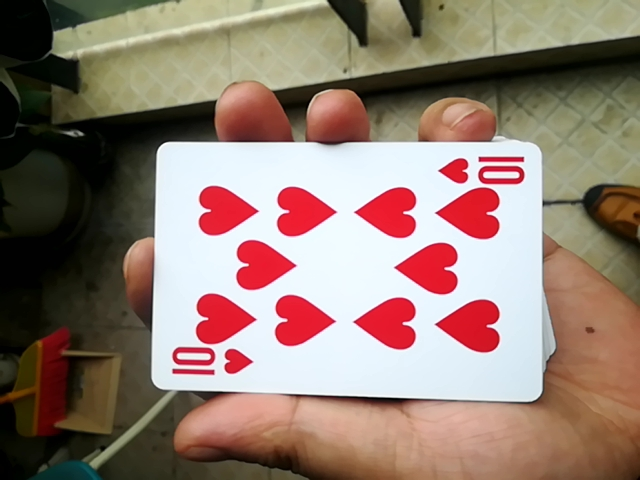hx 10: (133, 138, 545, 407)
